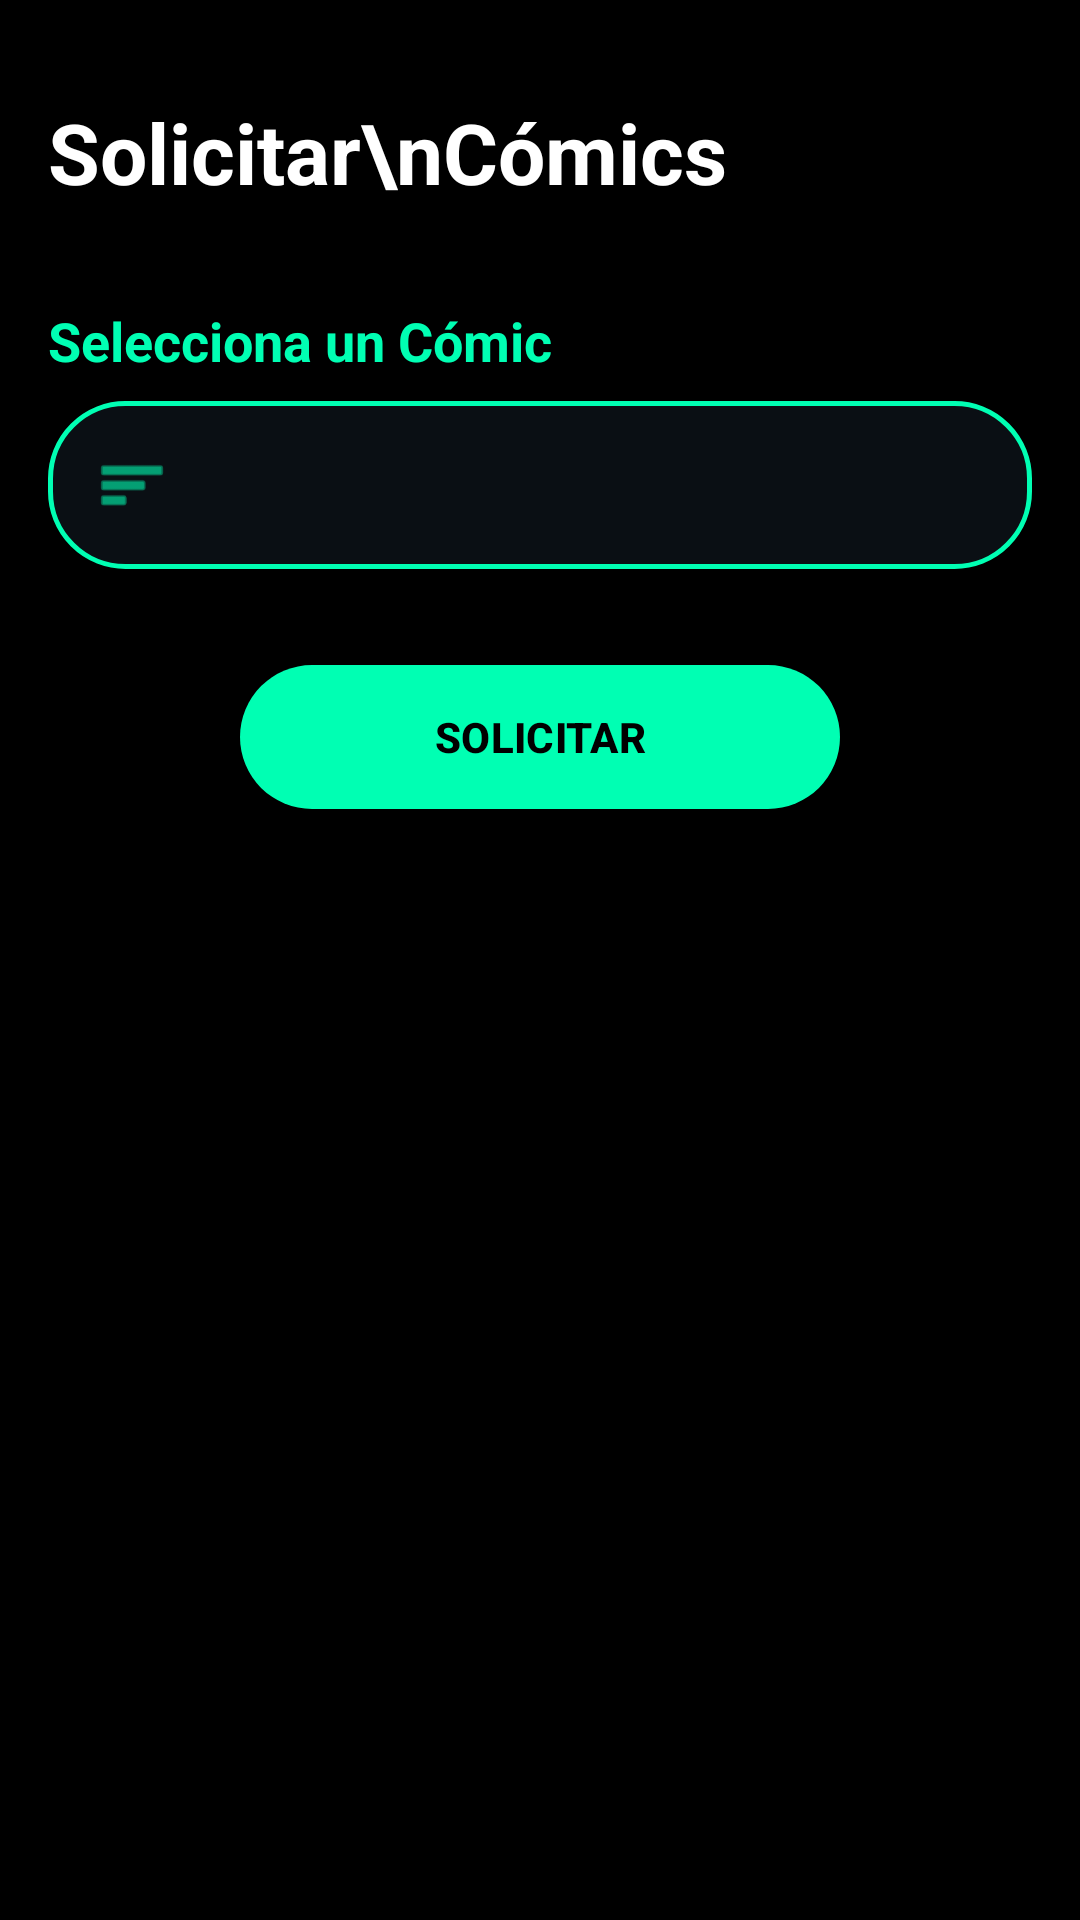

Point at icon controls on the screen. Image size 1080x1920, points as (x=x, y=y).
sort by size: (x=132, y=485)
